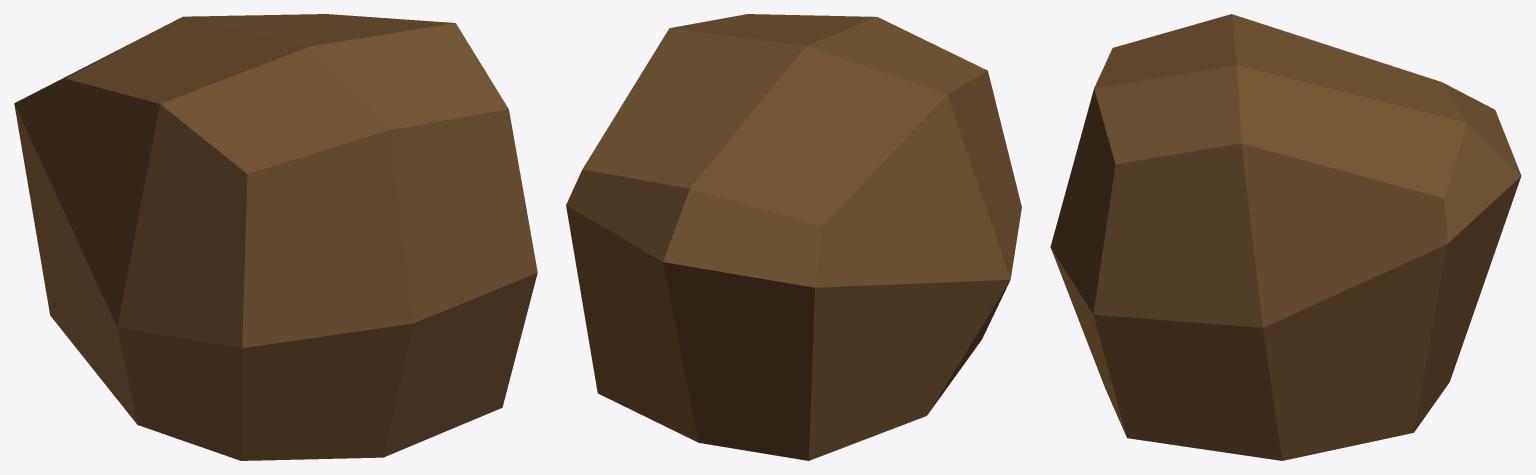
Rendered from pedra2.fbx.
The picture shows the model from 3 angles, left to right: view 1: azimuth 30°, elevation 25°; view 2: azimuth 150°, elevation 25°; view 3: azimuth 270°, elevation 25°; orthographic projection. The views are drawn at different scales.
Parts seen in each view (by area): view 1: Cubo.001; view 2: Cubo.001; view 3: Cubo.001.
Boxes of the visible parts, x1,y1,x2,y2 form: Cubo.001: (14, 14, 537, 460); Cubo.001: (566, 14, 1021, 460); Cubo.001: (1050, 14, 1521, 460).
Bounding box in the file's own units: 213 × 205 × 241.
